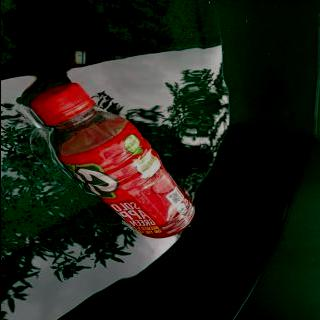bottle: (28, 80, 195, 239)
